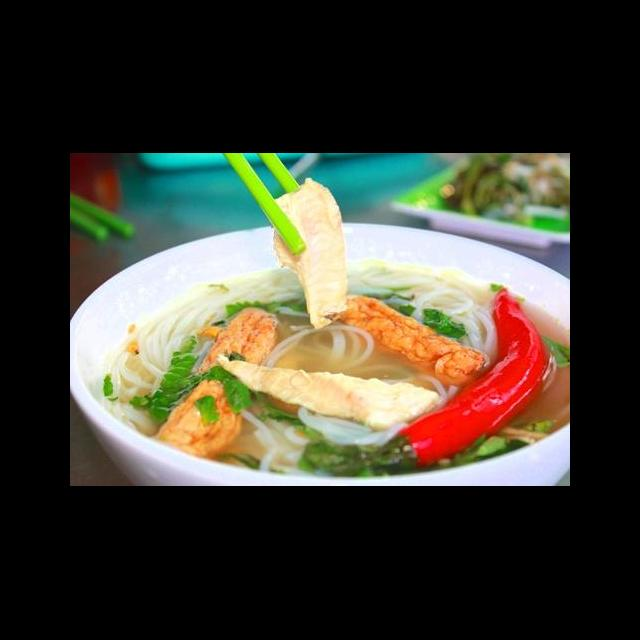bun: (98, 274, 230, 442), (349, 258, 505, 366)
bun ca: (80, 182, 559, 479)
ca: (208, 346, 445, 436), (266, 176, 352, 336)
